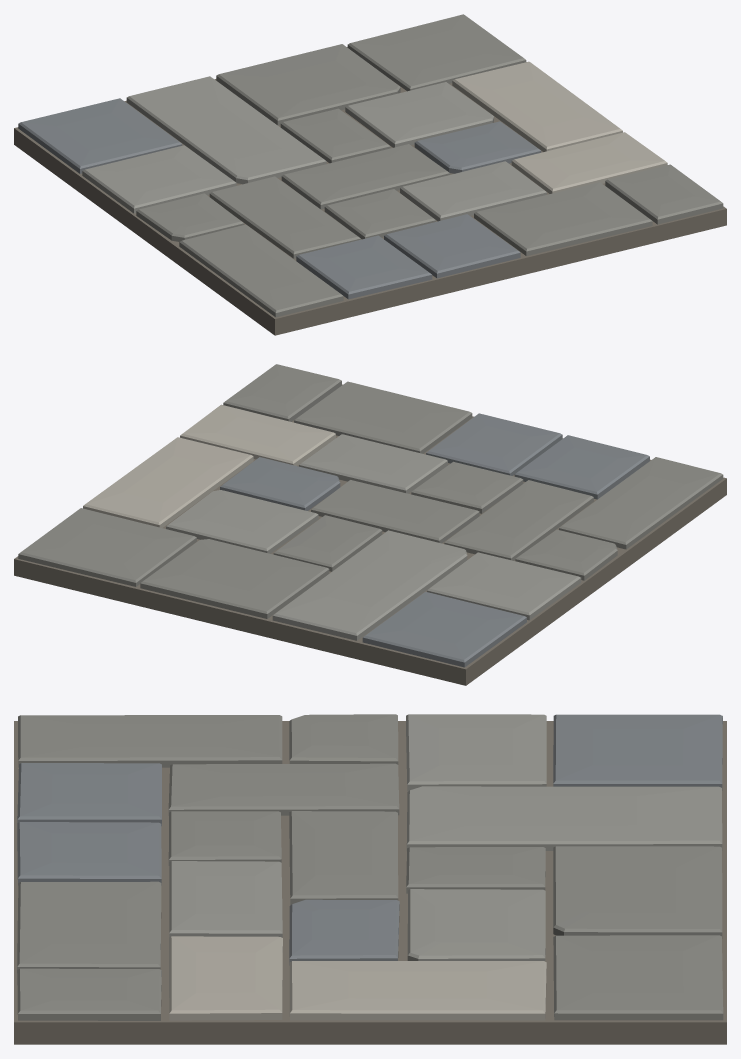
File: SM_LPD_Floor_PavingFlagstone_01.fbx
3 views of the same model, one above another, from view 1: azimuth 30°, elevation 25°; view 2: azimuth 150°, elevation 25°; view 3: azimuth 270°, elevation 25° (orthographic). The views are drawn at different scales.
Parts seen in each view (by area): view 1: SM_LPD_Floor_PavingFlagstone_01; view 2: SM_LPD_Floor_PavingFlagstone_01; view 3: SM_LPD_Floor_PavingFlagstone_01.
Part boxes in pixels (<box>): SM_LPD_Floor_PavingFlagstone_01: <box>14,14,726,335</box>; SM_LPD_Floor_PavingFlagstone_01: <box>14,364,726,685</box>; SM_LPD_Floor_PavingFlagstone_01: <box>14,714,726,1044</box>.
Bounding box in the file's own units: 4 × 0.2 × 4.
